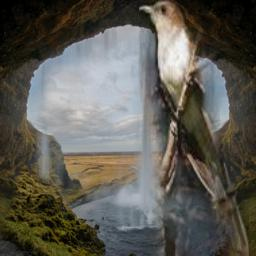Cuckoo: (139, 0, 249, 256)
